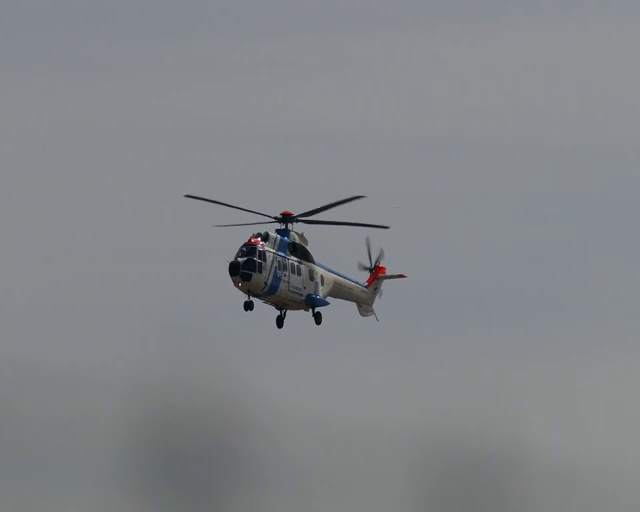HELICOPTER: (183, 192, 407, 329)
